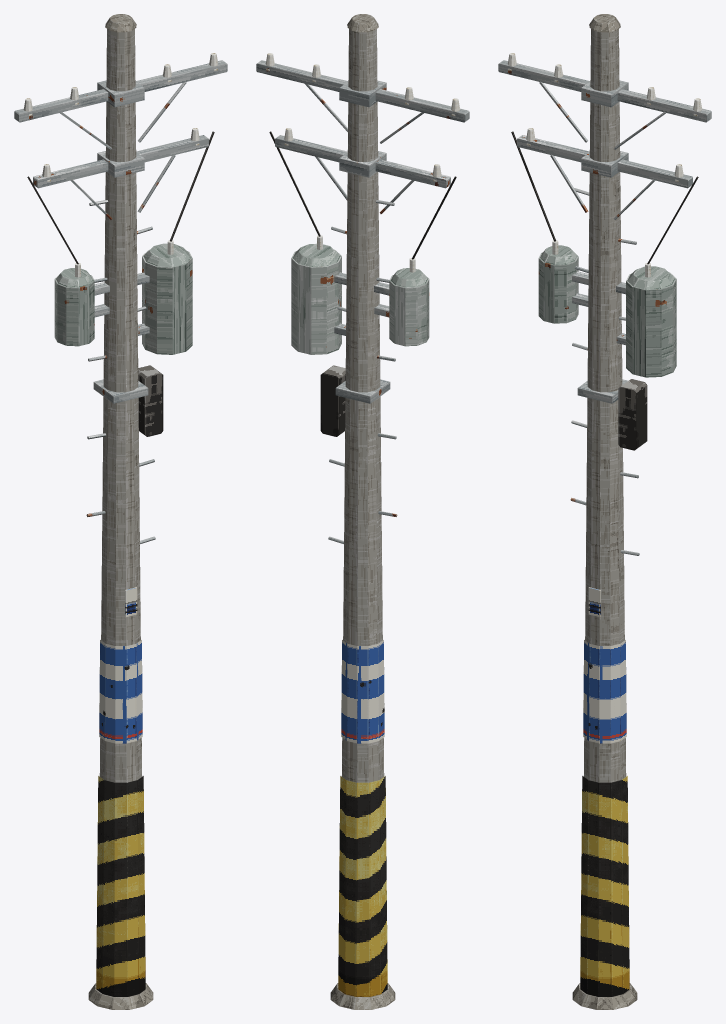
The model's file is utility_pole.glb.
3 views of the same model, side by side, from view 1: azimuth 30°, elevation 25°; view 2: azimuth 150°, elevation 25°; view 3: azimuth 330°, elevation 25° (orthographic).
Visible parts, largest first — view 1: utility_pole; view 2: utility_pole; view 3: utility_pole.
Part boxes in pixels (x1,y1,x2,y2): utility_pole: [14, 14, 227, 1009]; utility_pole: [256, 14, 469, 1009]; utility_pole: [498, 14, 711, 1009].
Size of the model in its own units: 1.8 by 8.06 by 0.4831.
1 material, 1 textured.
